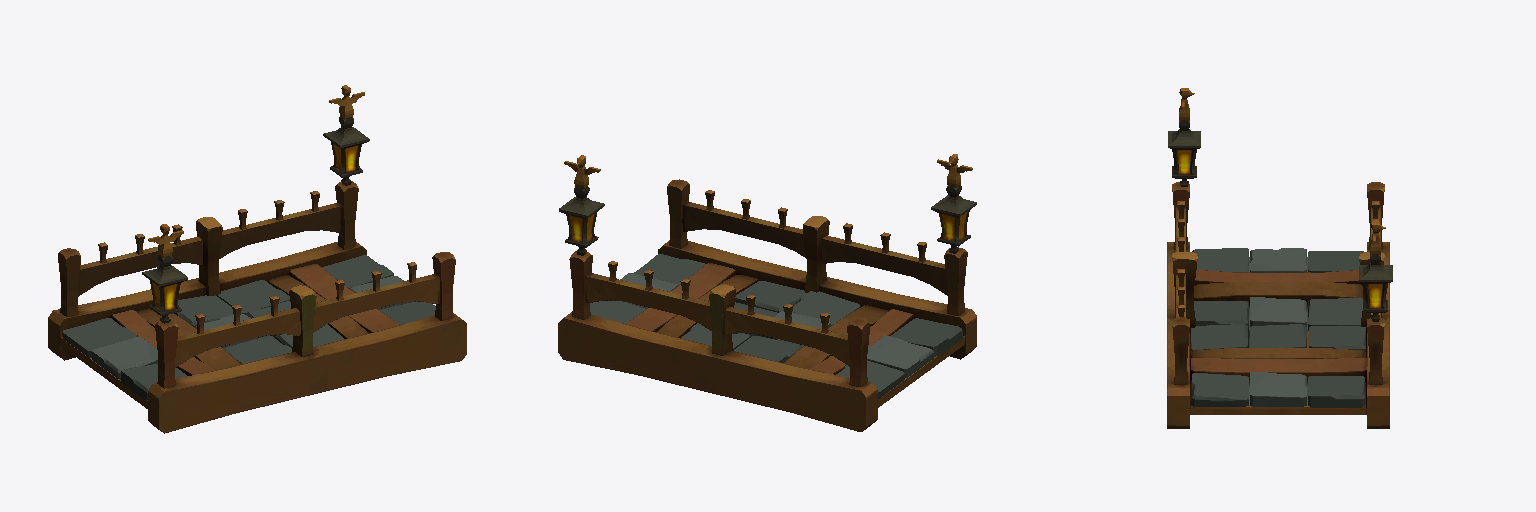
The picture shows the model from 3 angles: view 1: azimuth 30°, elevation 25°; view 2: azimuth 150°, elevation 25°; view 3: azimuth 270°, elevation 25°; orthographic projection.
Visible parts, largest first — view 1: OBJ_Bridge_01, OBJ_Bridge_02, OBJ_Streetlight_01 (1), OBJ_Streetlight_01; view 2: OBJ_Bridge_01, OBJ_Bridge_02, OBJ_Streetlight_01 (1), OBJ_Streetlight_01; view 3: OBJ_Bridge_01, OBJ_Bridge_02, OBJ_Streetlight_01 (1), OBJ_Streetlight_01.
Boxes of the visible parts, <box> form: OBJ_Bridge_01: <box>48,181,466,433</box>; OBJ_Bridge_02: <box>62,255,435,400</box>; OBJ_Streetlight_01 (1): <box>323,85,369,185</box>; OBJ_Streetlight_01: <box>142,224,187,323</box>; OBJ_Bridge_01: <box>558,179,976,431</box>; OBJ_Bridge_02: <box>590,254,962,398</box>; OBJ_Streetlight_01 (1): <box>559,155,604,255</box>; OBJ_Streetlight_01: <box>931,154,976,253</box>; OBJ_Bridge_01: <box>1167,182,1389,428</box>; OBJ_Bridge_02: <box>1191,248,1365,407</box>; OBJ_Streetlight_01 (1): <box>1359,222,1392,321</box>; OBJ_Streetlight_01: <box>1168,88,1200,186</box>.
Bounding box in the file's own units: 7.3 × 4.49 × 4.57.
2 materials, 2 textured.